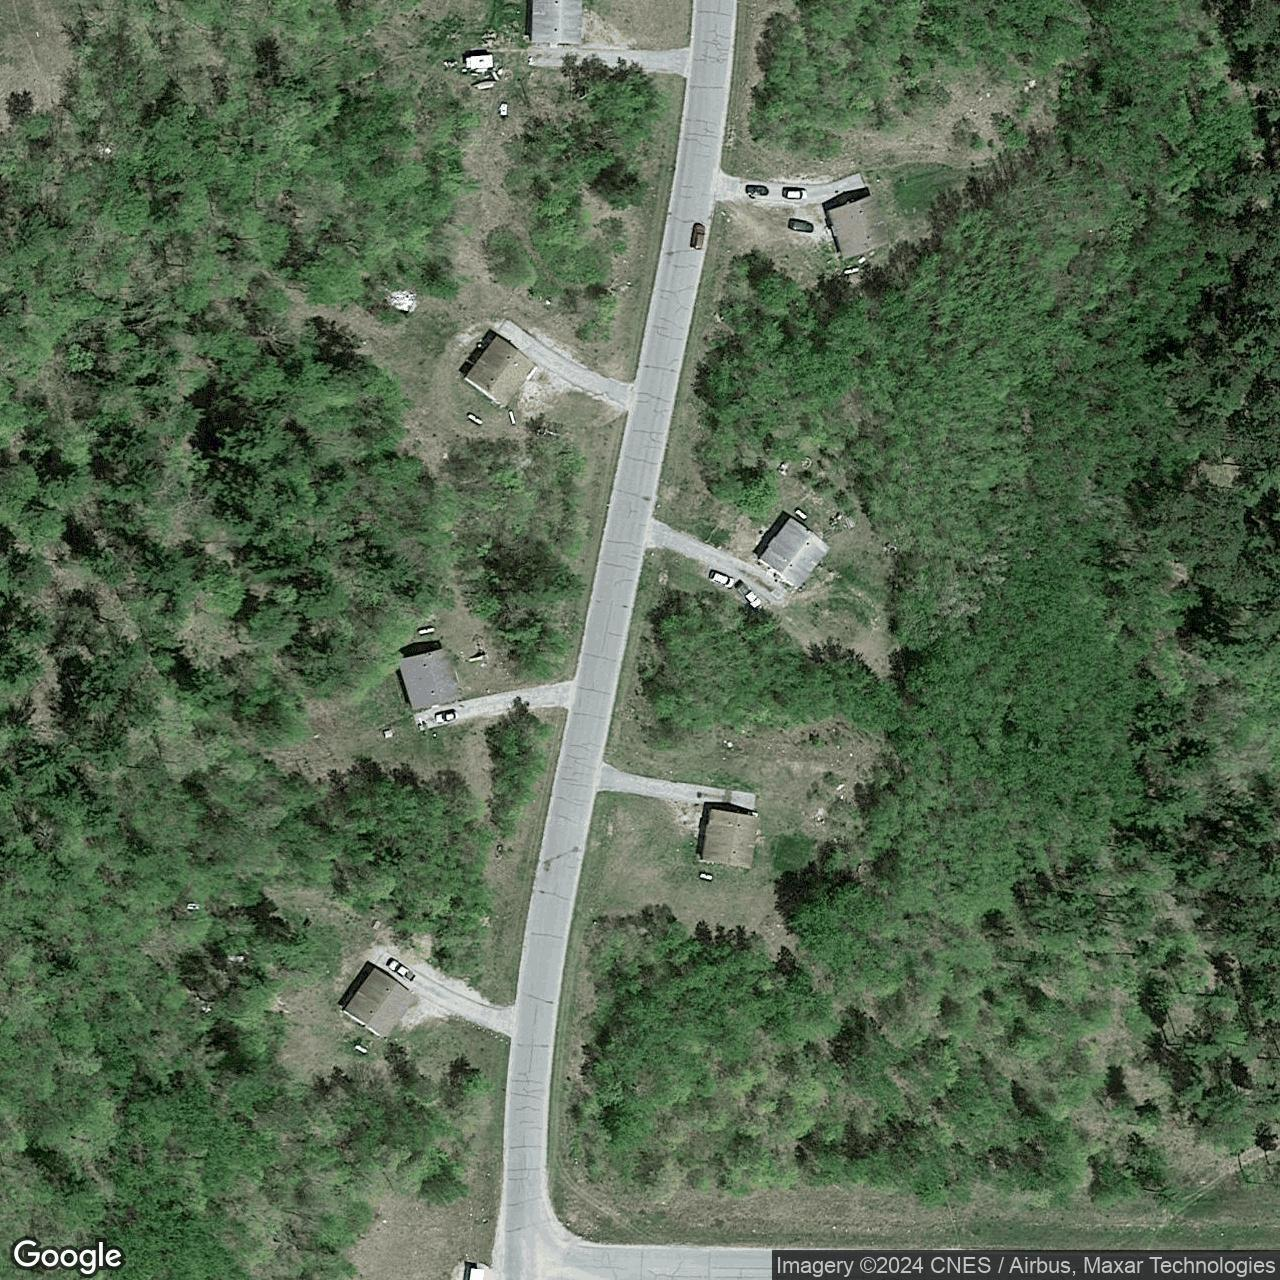House: (338, 967, 416, 1042), (464, 334, 538, 410), (754, 517, 831, 590), (826, 195, 891, 260), (396, 647, 461, 712), (699, 809, 761, 870), (530, 0, 583, 46)
Propane: (467, 410, 484, 427), (791, 506, 810, 522), (416, 625, 436, 636), (353, 1042, 369, 1056), (842, 266, 860, 275), (508, 409, 517, 427), (697, 871, 713, 881)
